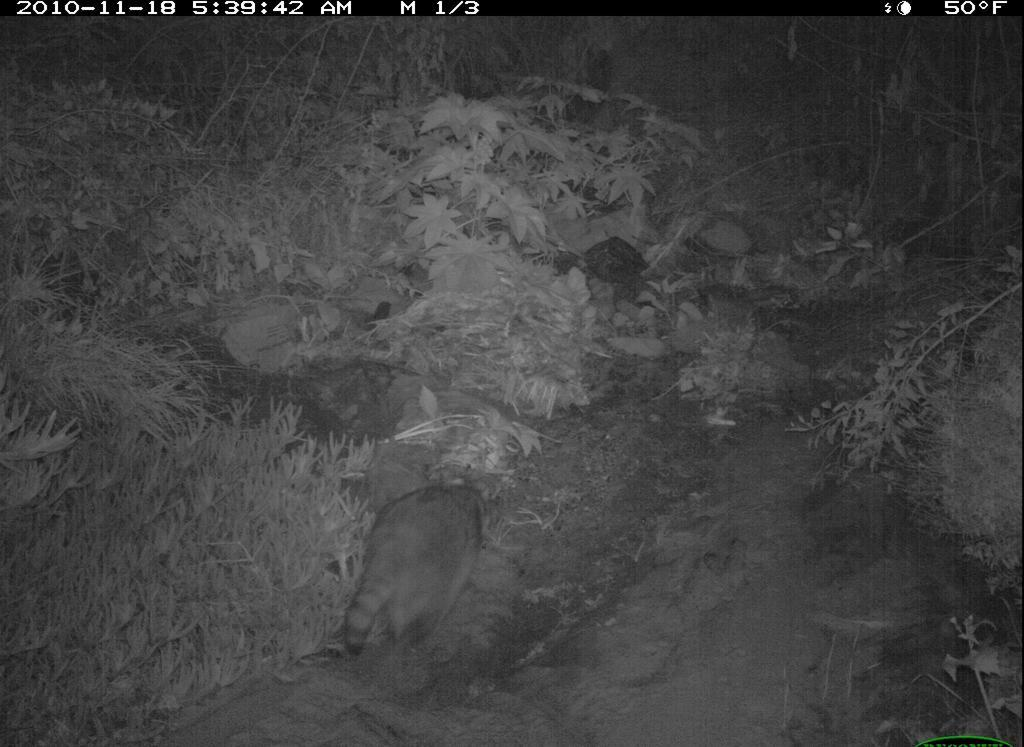raccoon: (327, 471, 509, 660)
